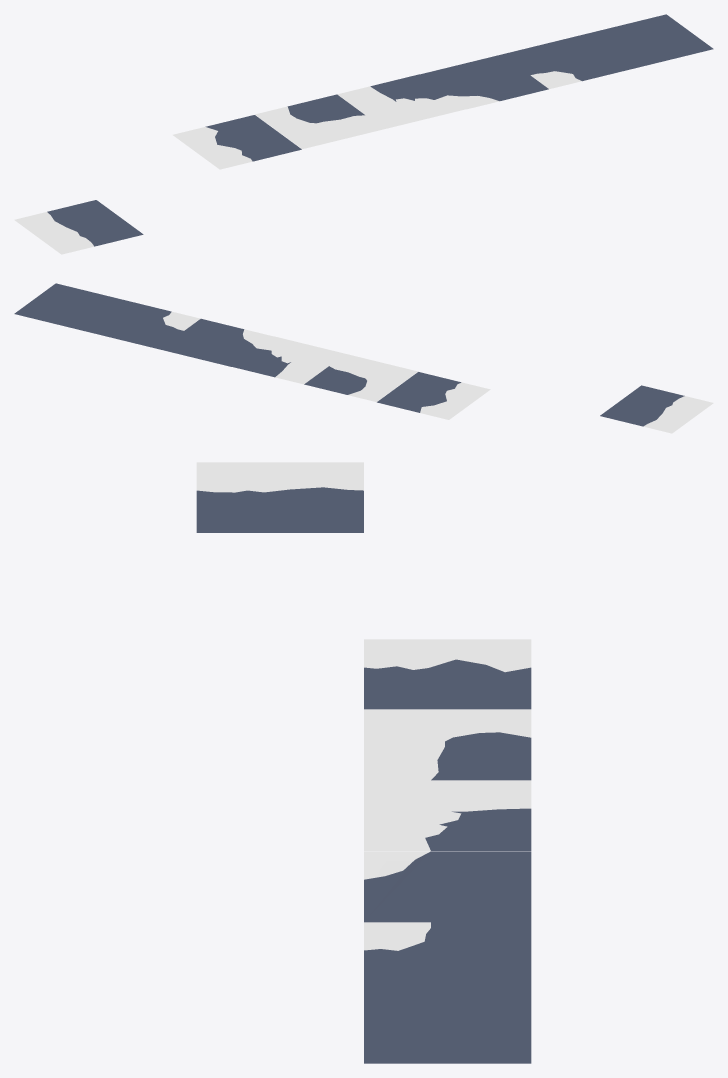
The model's file is cave_water_for_tiled.fbx.
The picture shows the model from 3 angles, top to bottom: view 1: azimuth 30°, elevation 25°; view 2: azimuth 150°, elevation 25°; view 3: azimuth 270°, elevation 25°; orthographic projection. The views are drawn at different scales.
Visible parts, largest first — view 1: Water, water_concave1, water_convex2, water_edge2, water_concave2, water_edge1, water_convex1; view 2: Water, water_edge1, water_concave2, water_concave1, water_convex2, water_edge2, water_convex1; view 3: water_concave1, water_convex1, Water, water_concave2, water_convex2, water_edge1, water_edge2.
Boxes of the visible parts, x1,y1,x2,y2 form: Water: (584,14,713,68); water_concave1: (255,94,384,149); water_convex2: (502,34,631,89); water_edge2: (173,115,301,169); water_concave2: (337,74,466,128); water_edge1: (14,200,143,254); water_convex1: (420,54,548,109); Water: (14,283,127,331); water_edge1: (600,385,713,433); water_concave2: (232,336,345,384); water_concave1: (304,354,417,401); water_convex2: (87,301,200,349); water_edge2: (377,372,490,419); water_convex1: (159,318,272,366); water_concave1: (364,709,531,780); water_convex1: (364,851,531,922); Water: (364,993,531,1063); water_concave2: (364,780,531,850); water_convex2: (364,922,531,992); water_edge1: (196,462,363,532); water_edge2: (364,639,531,709).
Bounding box in the file's own units: 1700 × 0.8952 × 400.
